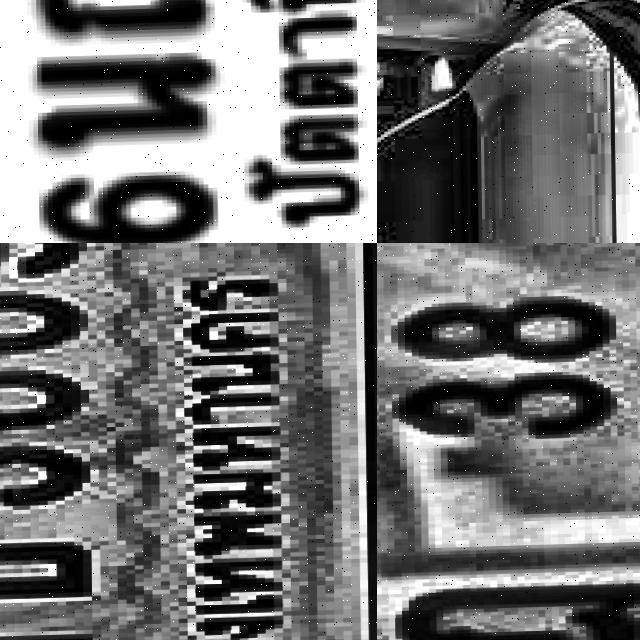license-plate: (0, 243, 377, 640), (377, 243, 640, 640), (0, 0, 377, 243)
